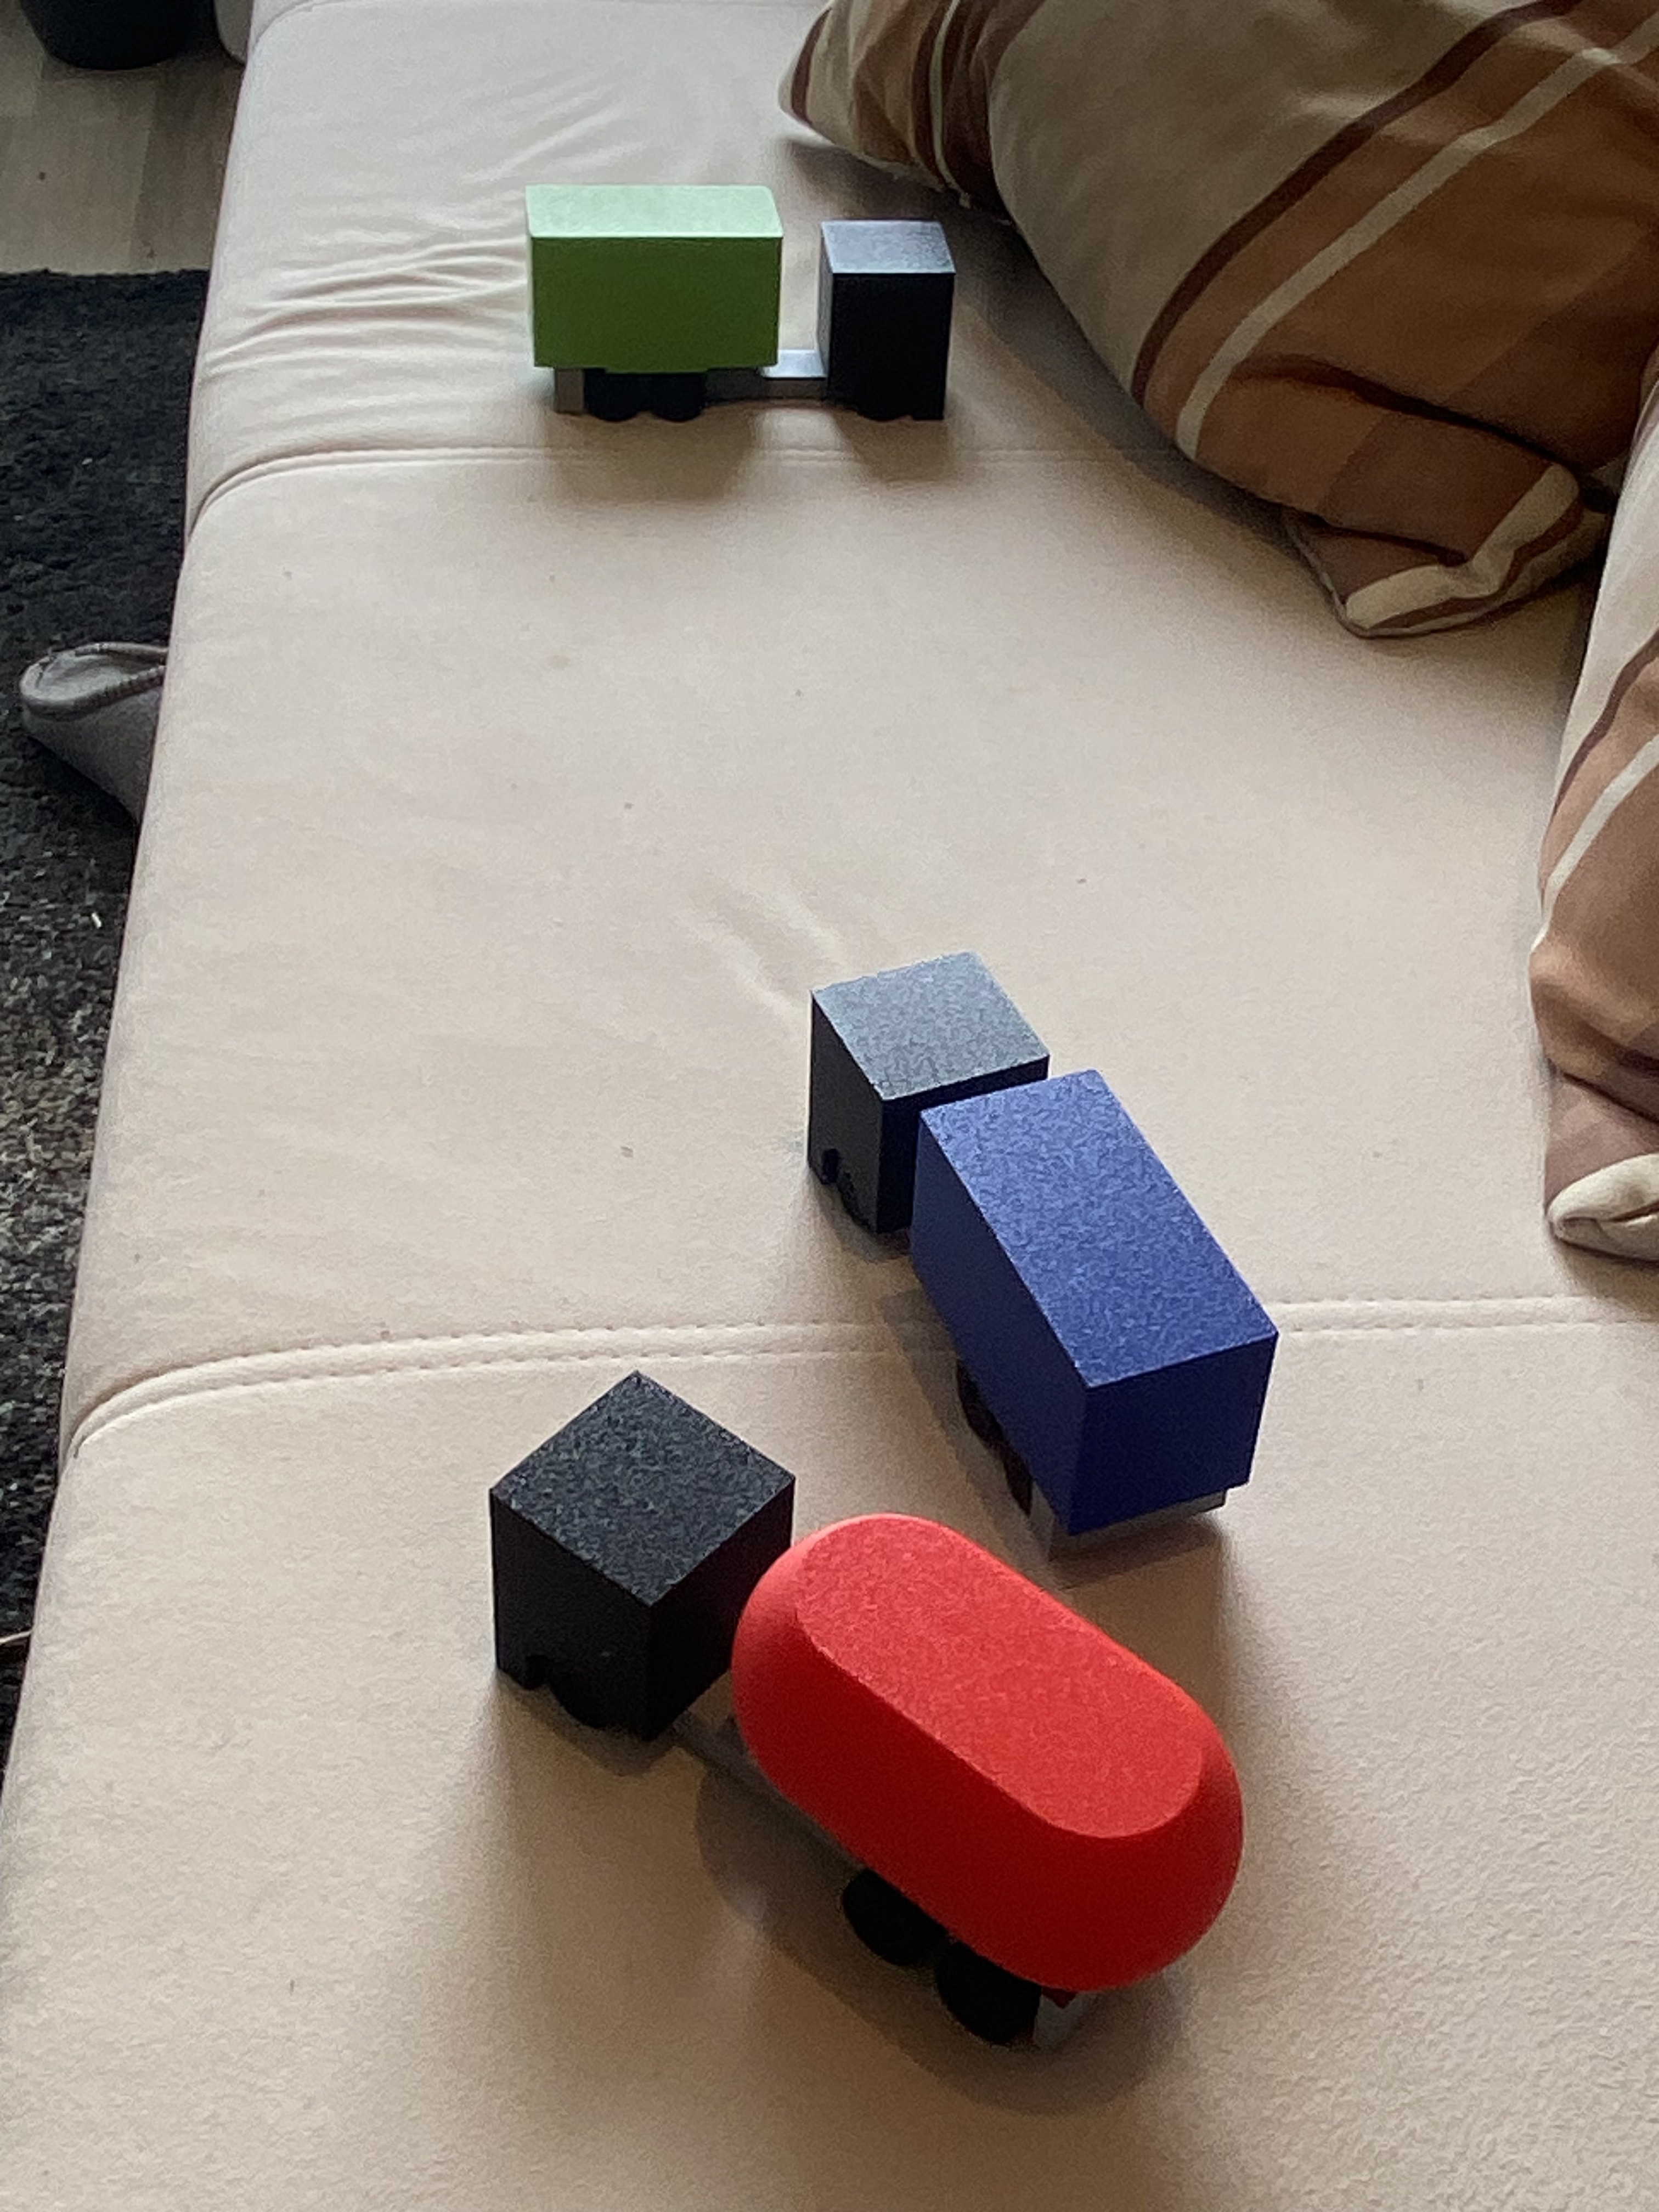blue_truck: (718, 1068, 1361, 1411)
green_truck: (613, 89, 866, 517)
red_truck: (450, 1489, 1284, 1911)
